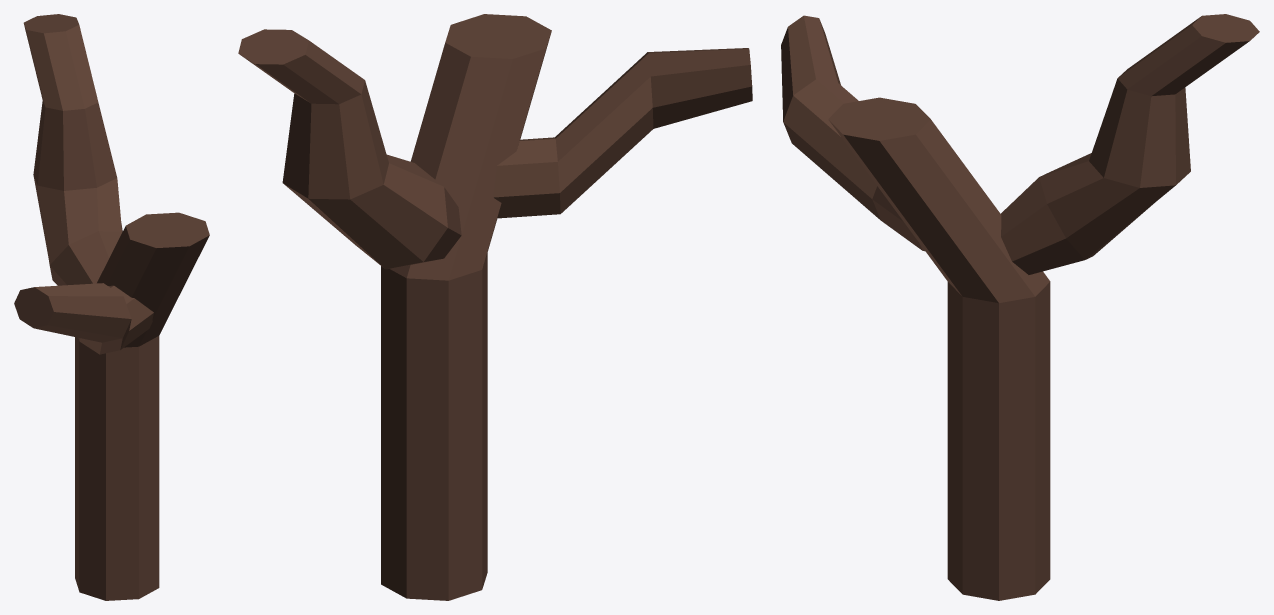
File: tree 1.fbx
The picture shows the model from 3 angles, left to right: view 1: azimuth 30°, elevation 25°; view 2: azimuth 150°, elevation 25°; view 3: azimuth 270°, elevation 25°; orthographic projection. The views are drawn at different scales.
Parts seen in each view (by area): view 1: Tree 2; view 2: Tree 2; view 3: Tree 2.
Boxes of the visible parts, <box> form: Tree 2: <box>14,14,209,600</box>; Tree 2: <box>238,14,752,600</box>; Tree 2: <box>781,14,1259,600</box>.
Bounding box in the file's own units: 831 × 1656 × 1257.
